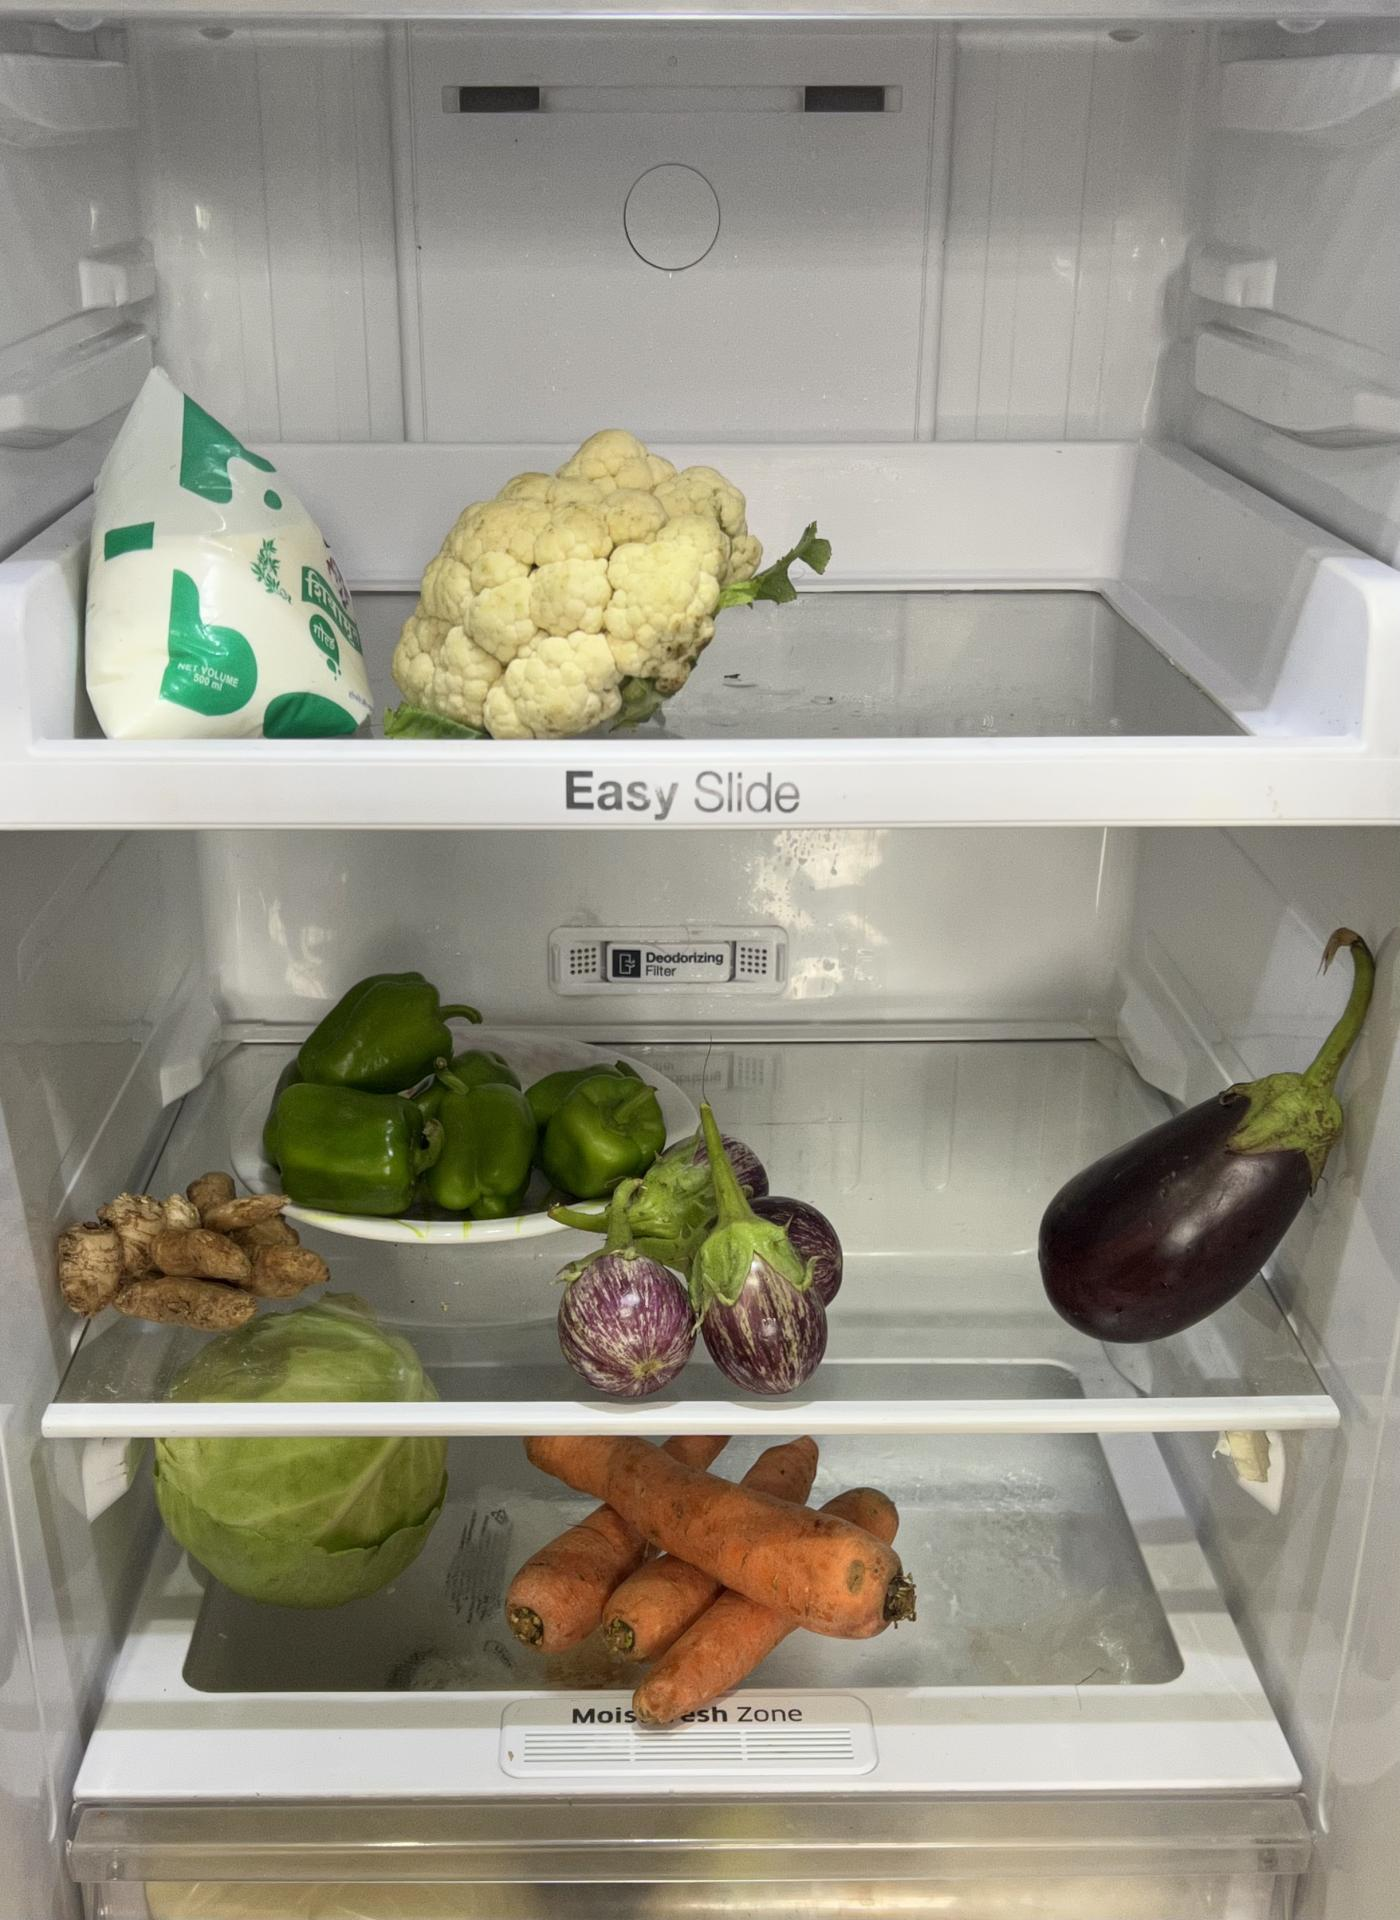brinjal: (1038, 1066, 1355, 1349), (558, 1149, 847, 1392)
cabbage: (157, 1351, 438, 1614)
capsicum: (262, 957, 658, 1209)
carrots: (502, 1422, 912, 1714)
cauliflower: (404, 420, 765, 739)
ginger: (54, 1172, 325, 1343)
milk: (69, 364, 368, 748)
